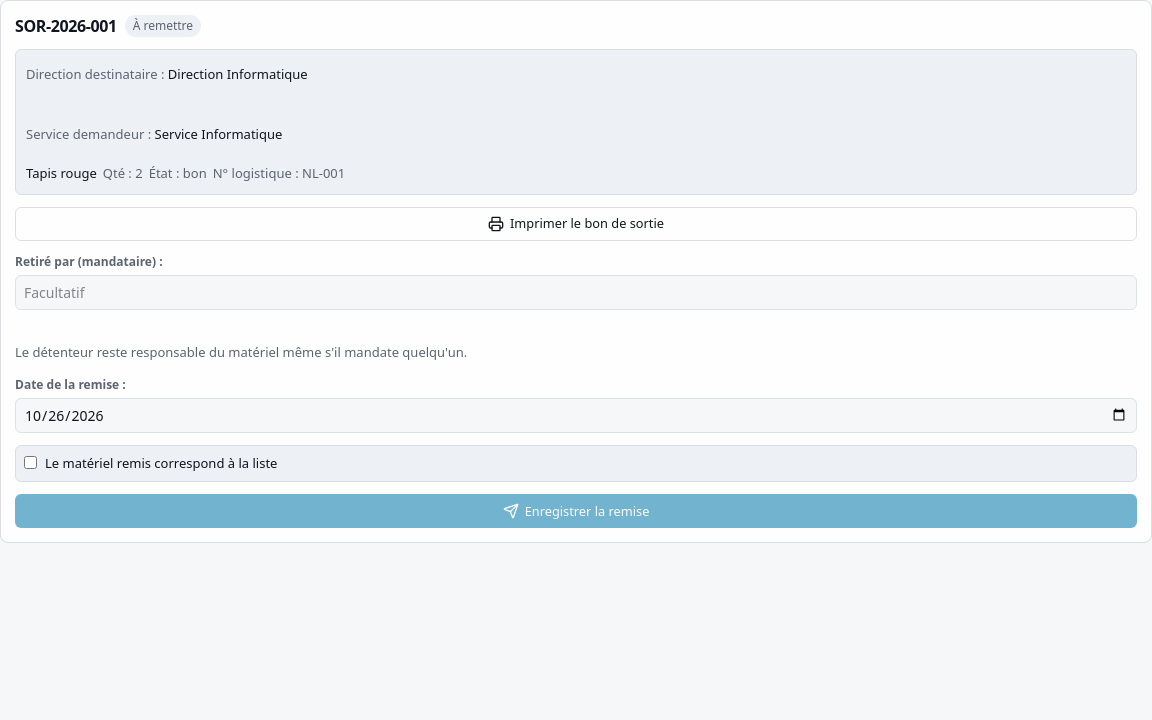
Test: (7) panneau de remise — résultat incertain et date par défaut › S5 : résultat incertain + ordre rechargé déjà remis → on confirme la remise
The width and height of the screenshot is (1152, 720).
Click the checkbox.
click(30, 462)  # box [24,456,37,469]
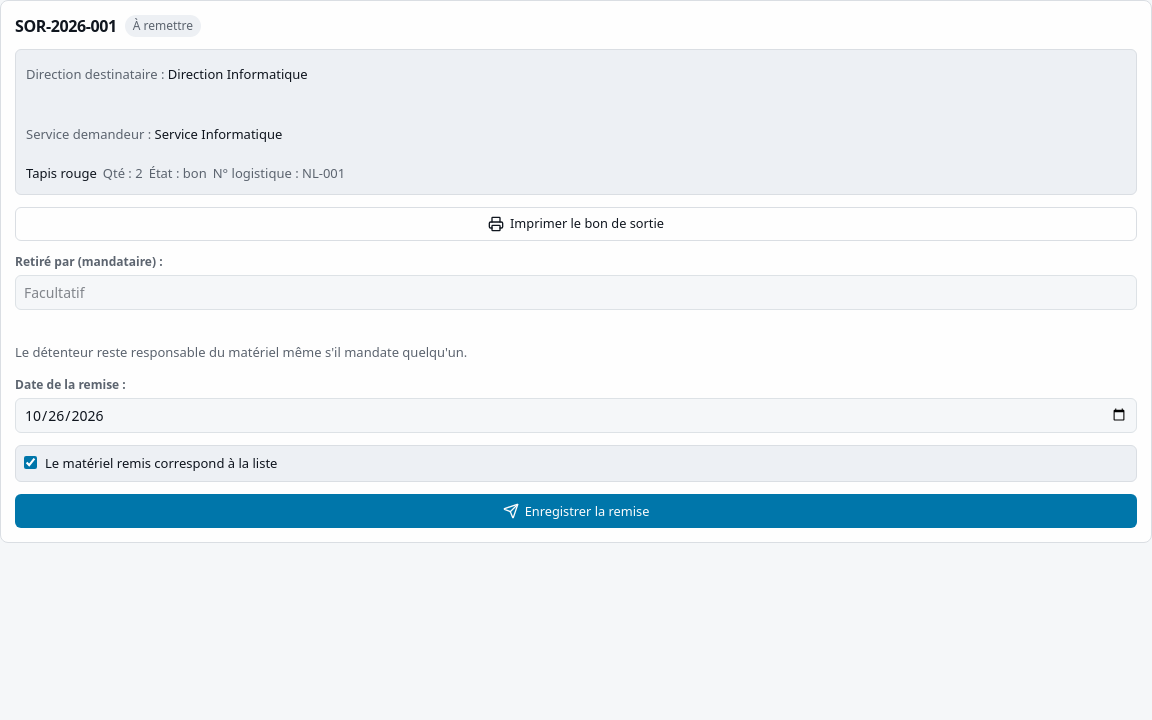
Click the button "Enregistrer la remise".
click(576, 511)  # box [15,494,1137,528]
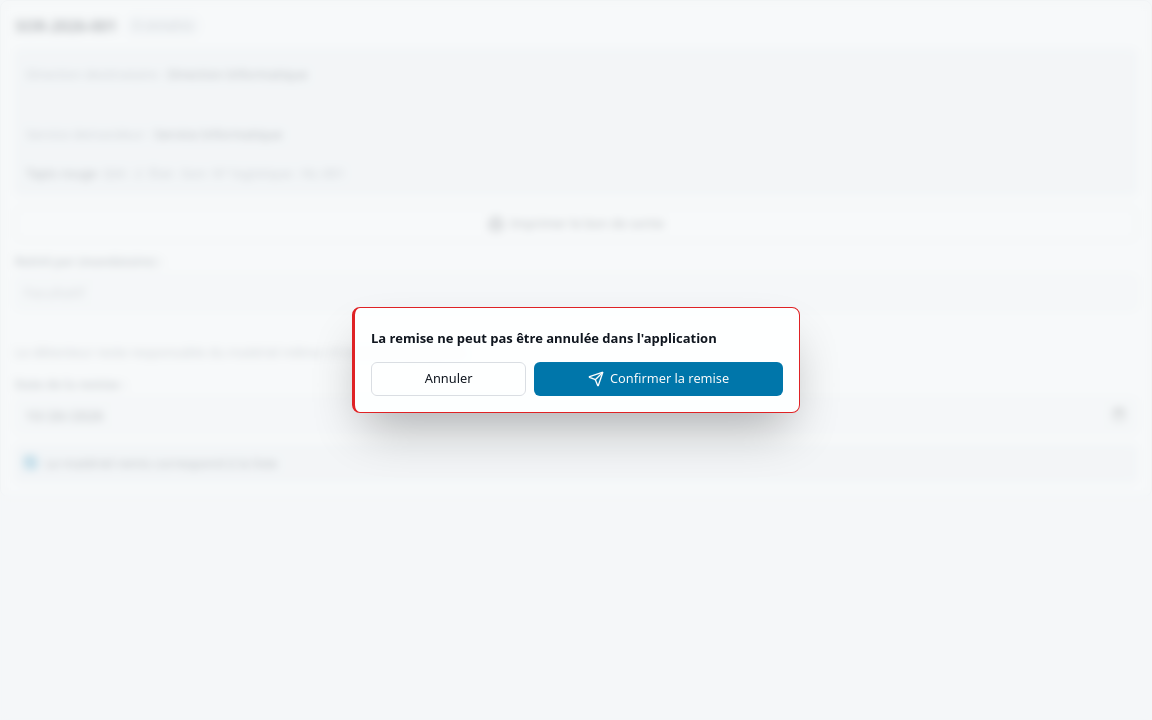
Click the button "Confirmer la remise".
click(659, 379)  # box [534,362,783,396]
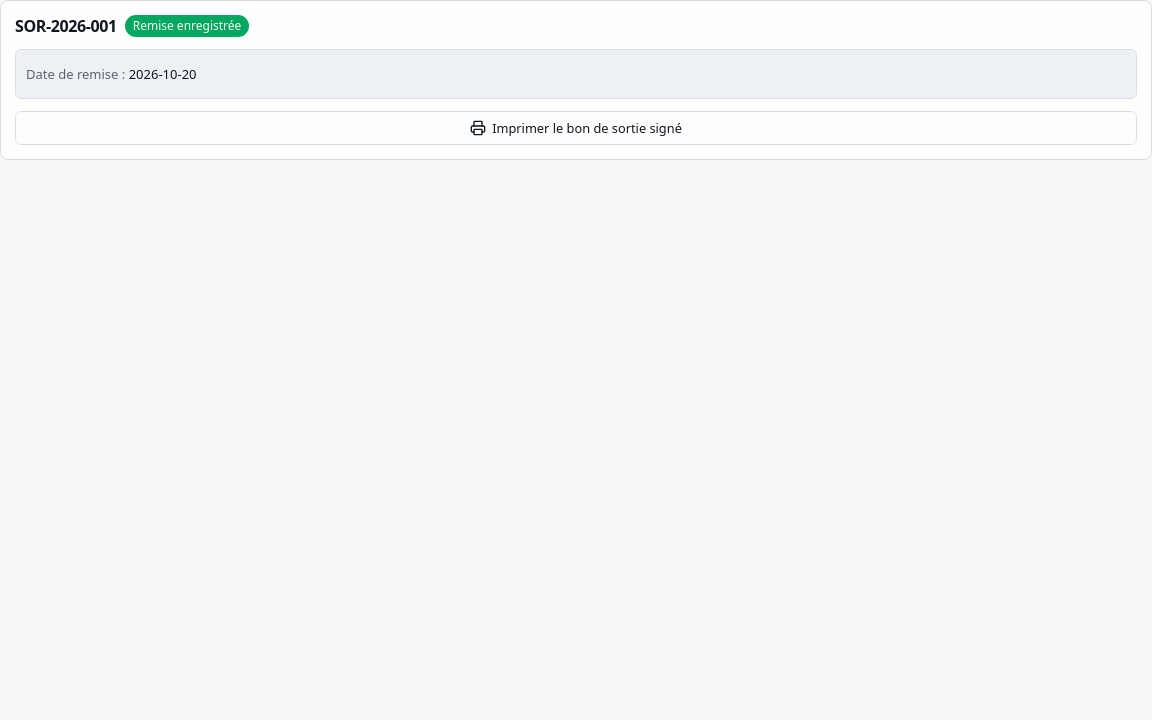
Check: the text "Remise enregistrée" is shown, box [125,15,249,37]
